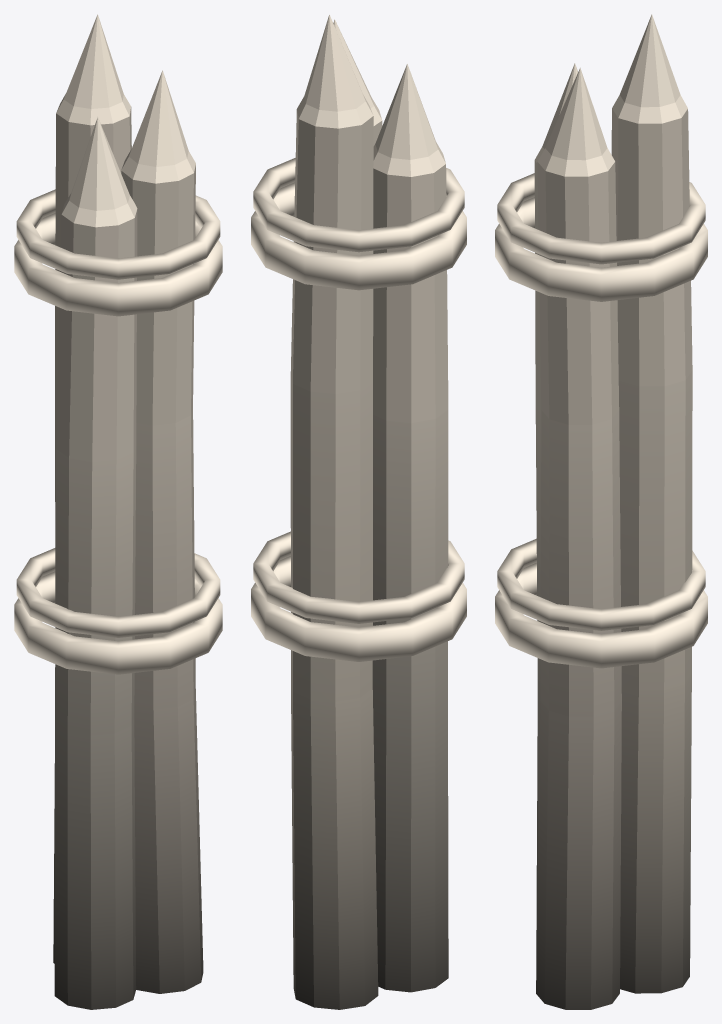
The model's file is SM_VK_Palisade_Post.fbx.
3 views of the same model, side by side, from view 1: azimuth 30°, elevation 25°; view 2: azimuth 150°, elevation 25°; view 3: azimuth 270°, elevation 25° (orthographic). The views are drawn at different scales.
Visible parts, largest first — view 1: SM_VK_Palisade_Post.001; view 2: SM_VK_Palisade_Post.001; view 3: SM_VK_Palisade_Post.001.
Boxes of the visible parts, <box> form: SM_VK_Palisade_Post.001: <box>14,14,222,1009</box>; SM_VK_Palisade_Post.001: <box>251,14,466,1009</box>; SM_VK_Palisade_Post.001: <box>495,14,707,1009</box>.
Bounding box in the file's own units: 1 × 5 × 1.
